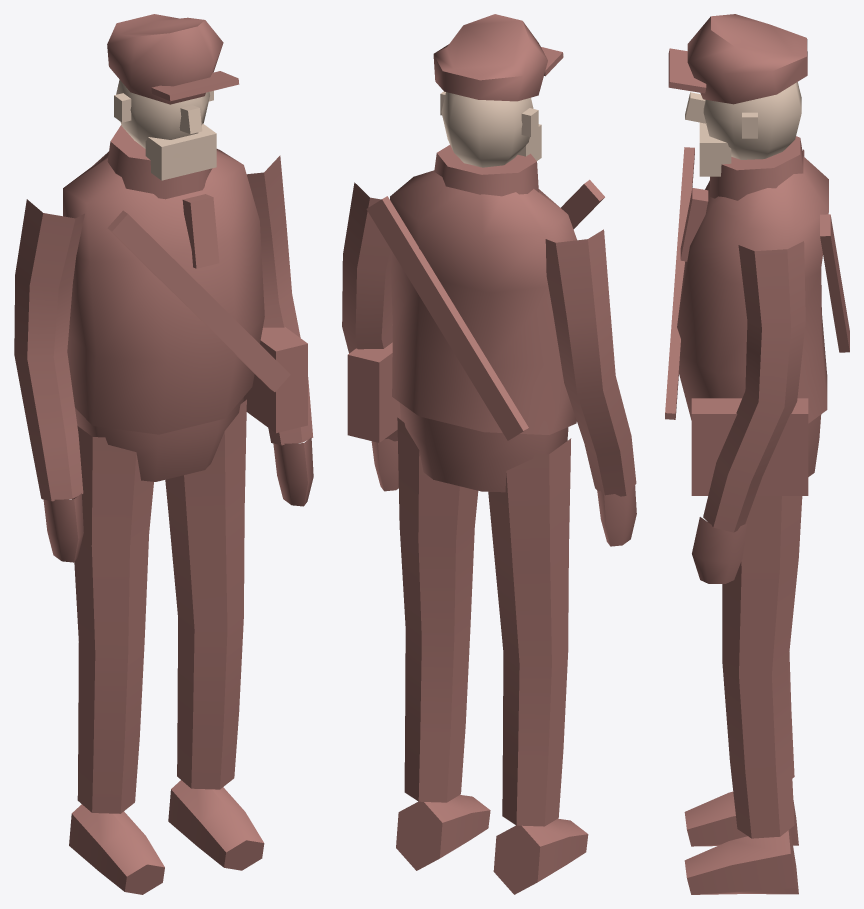
File: npc.glb
3 renders of one model, left to right at view 1: azimuth 30°, elevation 25°; view 2: azimuth 150°, elevation 25°; view 3: azimuth 270°, elevation 25°, orthographic.
Parts seen in each view (by area): view 1: torso, leg_r, leg_l, arm_r, cap, arm_l, head, hips; view 2: torso, leg_r, leg_l, arm_r, cap, arm_l, hips, head; view 3: torso, leg_l, arm_l, cap, head, leg_r, hips.
Part boxes in pixels (box(x1,y1,x2,y2)): torso: box(63, 125, 307, 434); leg_r: box(69, 426, 164, 894); leg_l: box(165, 399, 264, 870); arm_r: box(14, 199, 84, 562); cap: box(107, 14, 239, 104); arm_l: box(246, 155, 313, 506); head: box(114, 79, 216, 180); hips: box(75, 397, 243, 481); torso: box(347, 145, 604, 442); leg_r: box(488, 438, 588, 894); leg_l: box(396, 417, 490, 870); arm_r: box(545, 229, 636, 546); cap: box(433, 14, 563, 101); arm_l: box(342, 182, 398, 491); hips: box(399, 402, 568, 492); head: box(440, 91, 541, 167); torso: box(665, 136, 849, 495); leg_l: box(684, 496, 802, 894); arm_l: box(692, 241, 805, 583); cap: box(668, 14, 807, 104); head: box(685, 82, 801, 176); leg_r: box(684, 652, 798, 846); hips: box(808, 414, 821, 476).
Bounding box in the file's own units: 0.5797 × 1.76 × 0.3482.
